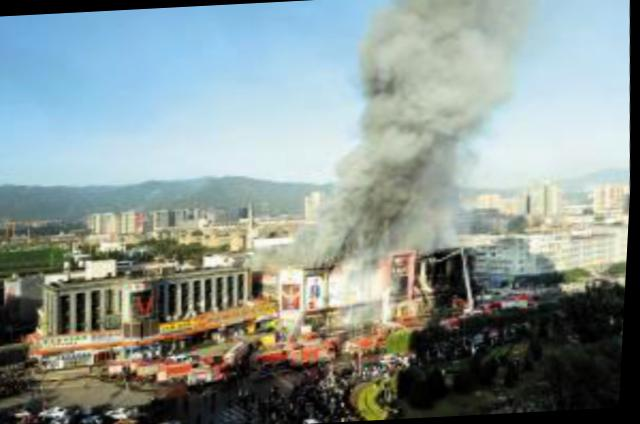smoke: (364, 0, 532, 78), (344, 78, 497, 145), (329, 142, 457, 208), (305, 208, 442, 259)
